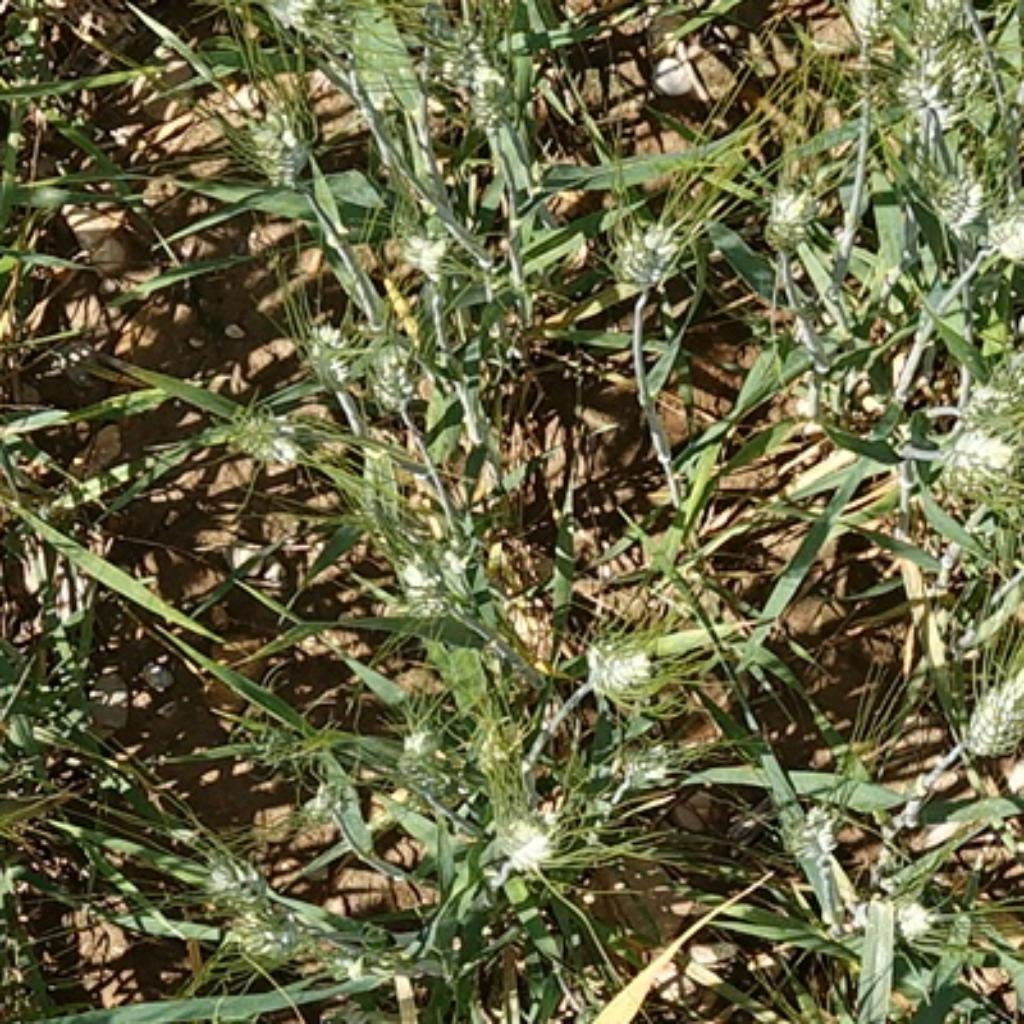0-0: (204, 903, 401, 977), (378, 199, 486, 294), (952, 314, 1024, 432), (476, 780, 565, 872), (241, 98, 326, 194), (194, 834, 284, 921), (929, 412, 1024, 494), (398, 531, 484, 620), (949, 655, 1024, 757), (386, 711, 468, 803), (857, 885, 960, 957), (212, 394, 307, 468), (608, 211, 690, 295), (773, 785, 847, 878), (576, 616, 660, 696), (755, 163, 829, 245), (296, 307, 366, 389), (460, 704, 527, 780), (373, 335, 431, 416), (465, 57, 522, 138), (883, 68, 968, 120), (294, 765, 363, 824), (929, 158, 984, 228), (616, 737, 679, 794), (983, 199, 1024, 268), (841, 0, 898, 42), (909, 1, 960, 40)
